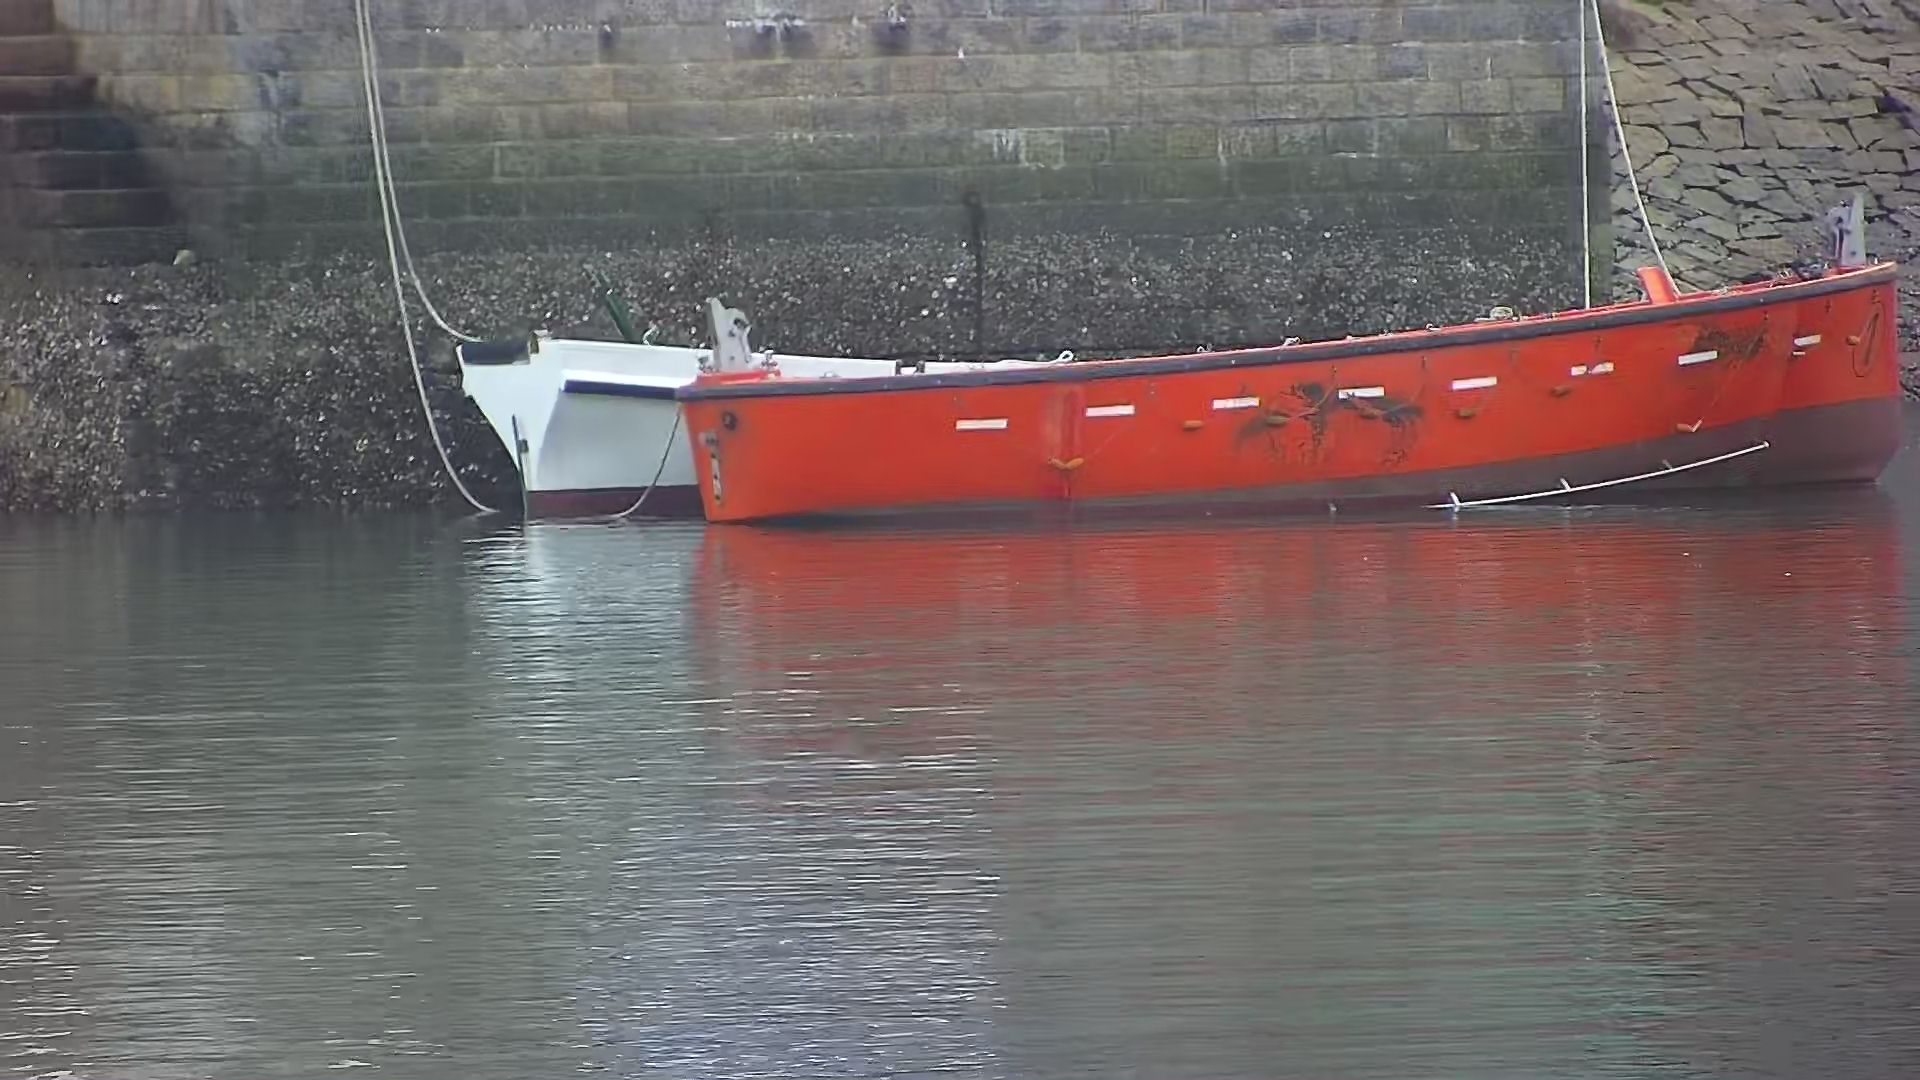boat: (686, 231, 1900, 497)
